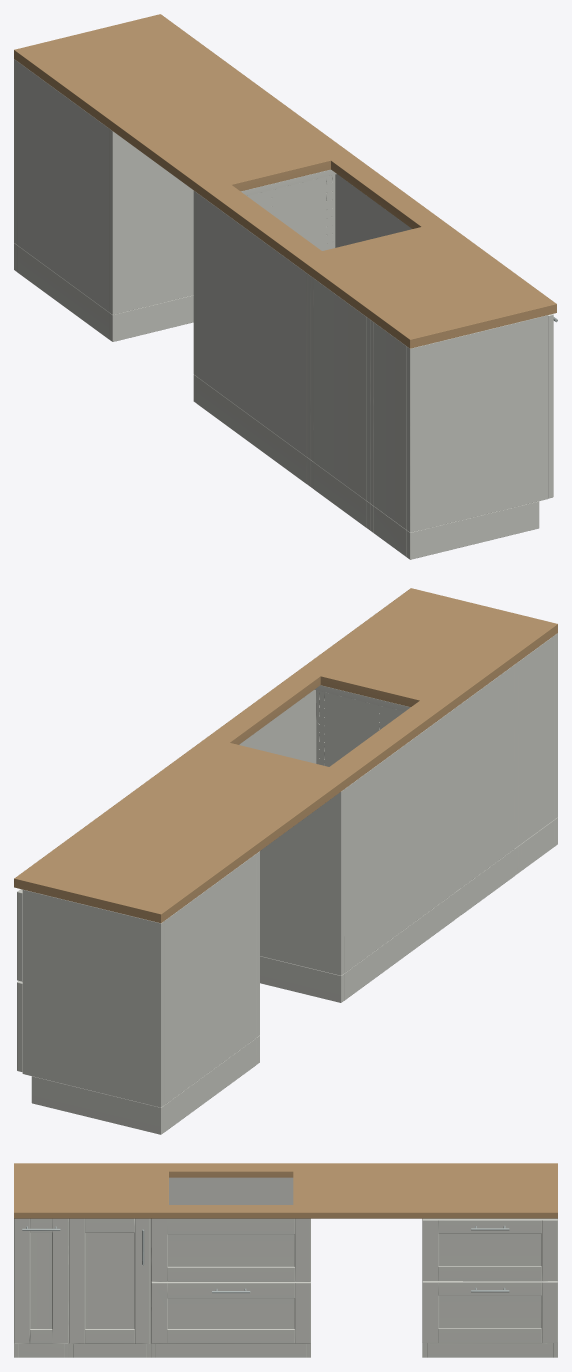
The model's file is fixture_counter_a01.glb.
3 renders of one model, top to bottom at view 1: azimuth 30°, elevation 25°; view 2: azimuth 150°, elevation 25°; view 3: azimuth 270°, elevation 25°, orthographic. The views are drawn at different scales.
Bounding box in the file's own units: 0.6797 × 0.9271 × 3.02.
